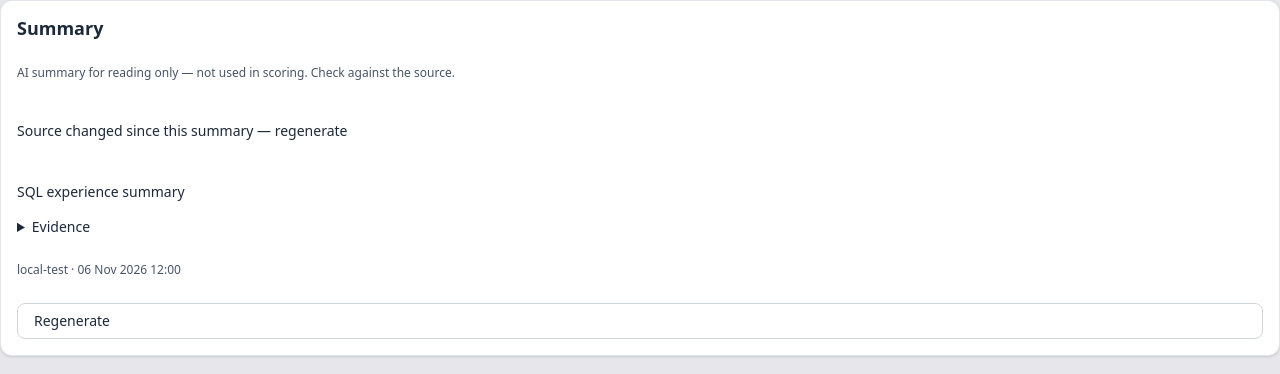
Test: reading-only summaries › loads an existing stale summary and clears the warning after regeneration
The image size is (1280, 374).
Expected: the text "Source changed since this summary — regenerate" is shown, [17,120,348,140]
Step 1. Click the button "Regenerate" → coordinates (72, 320), box [17,302,1263,338]
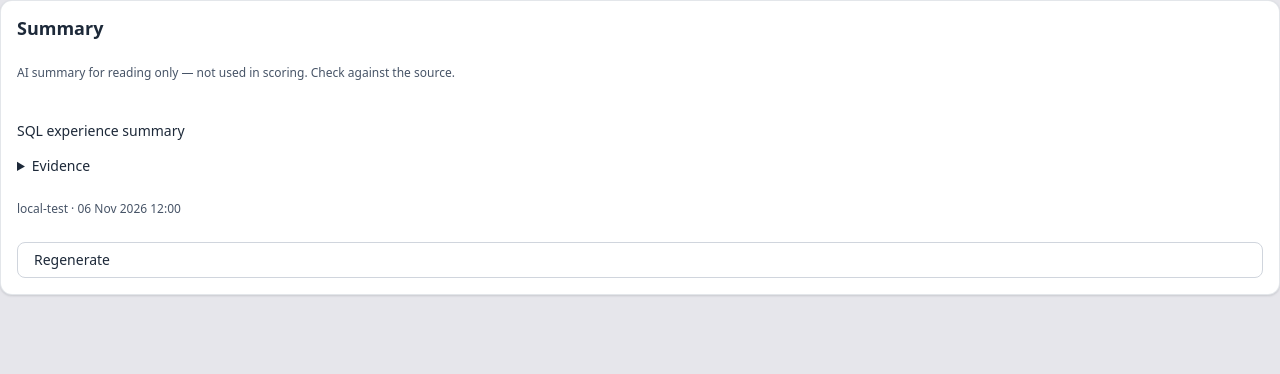
Expected: the text "Source changed since this summary — regenerate" is gone
